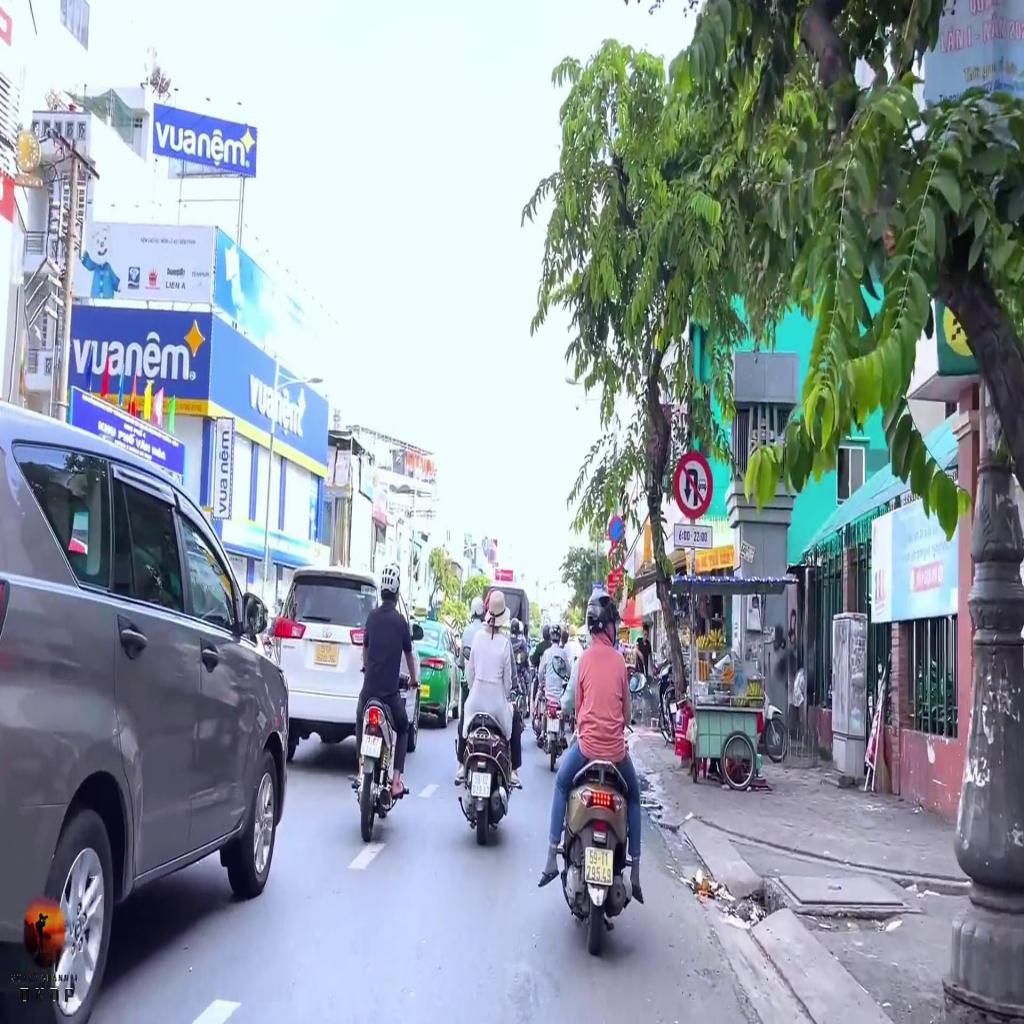cam_do_xe: (609, 515, 625, 542)
cam_o_to_quay_dau_xe: (674, 452, 712, 519)
khac: (675, 523, 713, 549)
